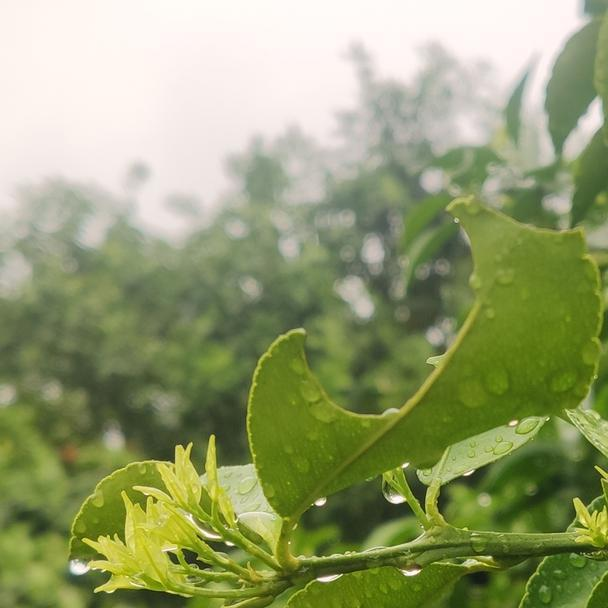shoot: (73, 508, 228, 603), (157, 443, 239, 535)
